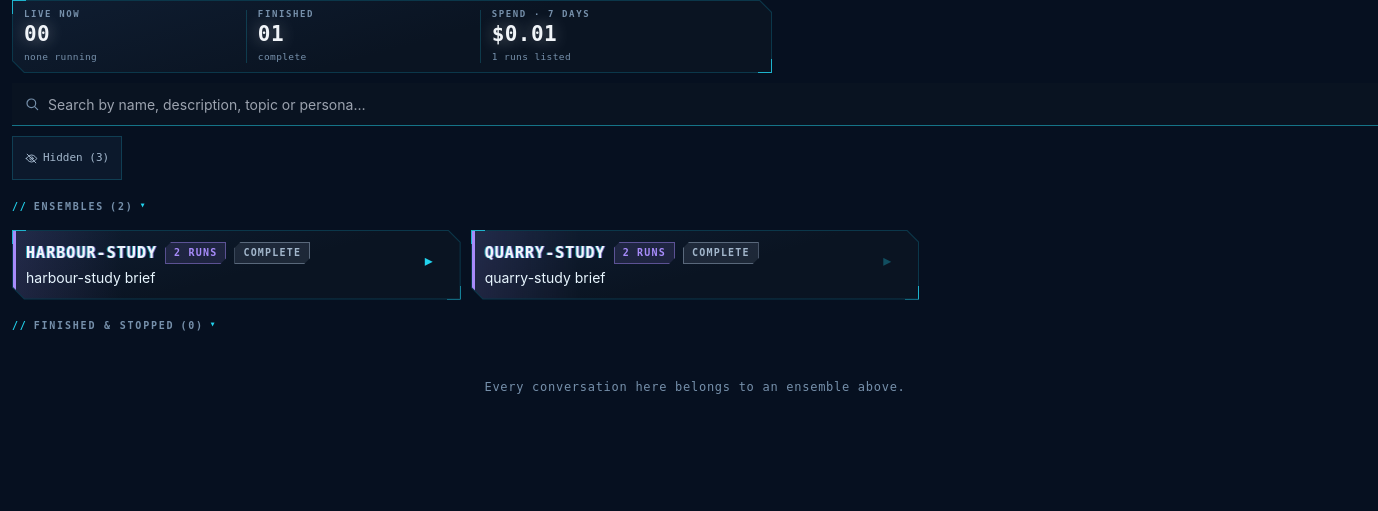
it: hidden runs are left out by default › from the runs nested under an ensemble; an ensemble whose runs are all hidden stays, with nothing to unfold
The image size is (1378, 511).
Expected: the text "harbour-study" is shown, x1=26 y1=244 x2=157 y2=262
Click the button named "Show the conversations in harbour-study" at x=429, y=260, box x1=411 y1=242 x2=447 y2=278
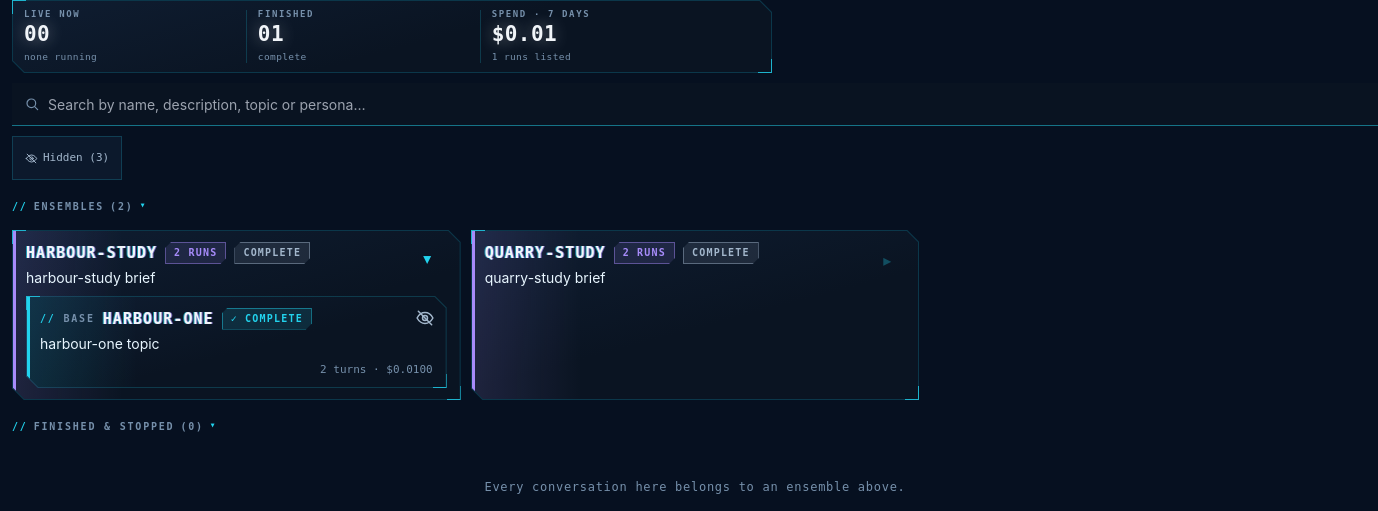
Expected: the text "quarry-study" is shown, x1=485 y1=244 x2=606 y2=262
Expected: the text "harbour-one" is shown, x1=103 y1=310 x2=214 y2=328
